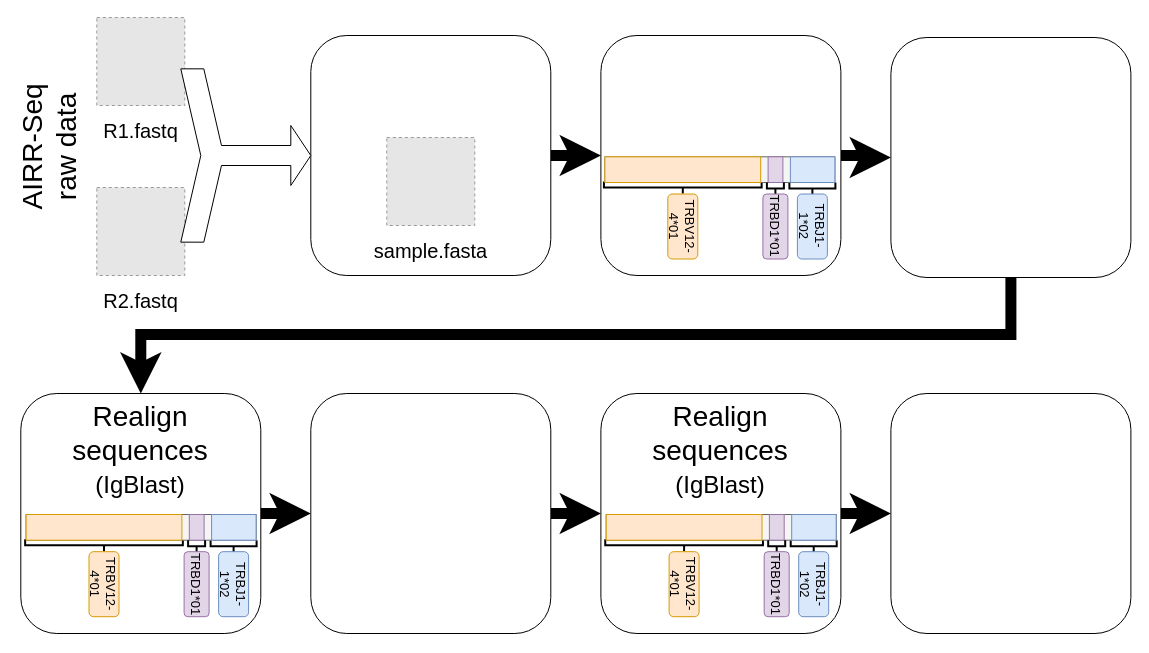
Image size: 1149x653. Some labels were removed from this diagram. Grey dashed boxes stand in for pictures. The shapes that lost their labels are listed below. From the top down, each one's box as (x1, y1, x2, y2) in pixels, then its label:
(310, 34, 551, 276): Pre-process the data
(600, 34, 841, 276): Align VDJ sequences (IgBlast)
(890, 36, 1131, 278): Detect undocumented allele candidates (IgDiscover)
(310, 392, 551, 634): Infer genotype (TIgGER) & Detect double chromosome deletion
(890, 392, 1131, 634): Infer haplotype by an anchor gene (TRBJ1-6, TRBD2) (RAbHIT)
